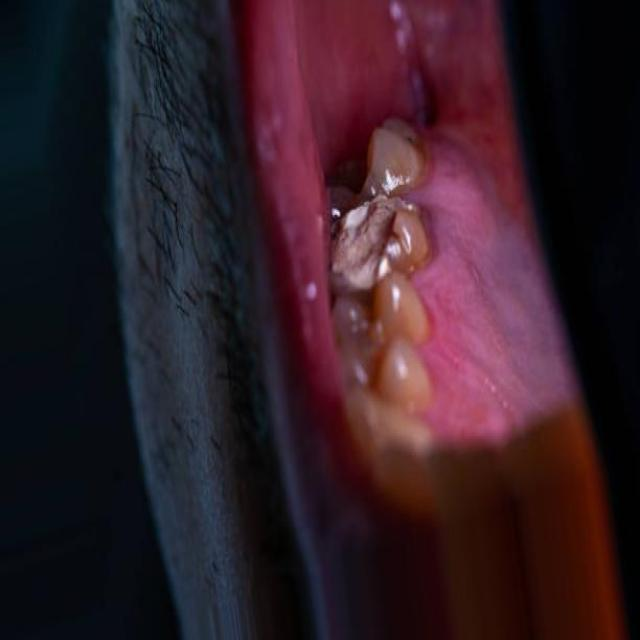caries: (332, 193, 416, 286)
